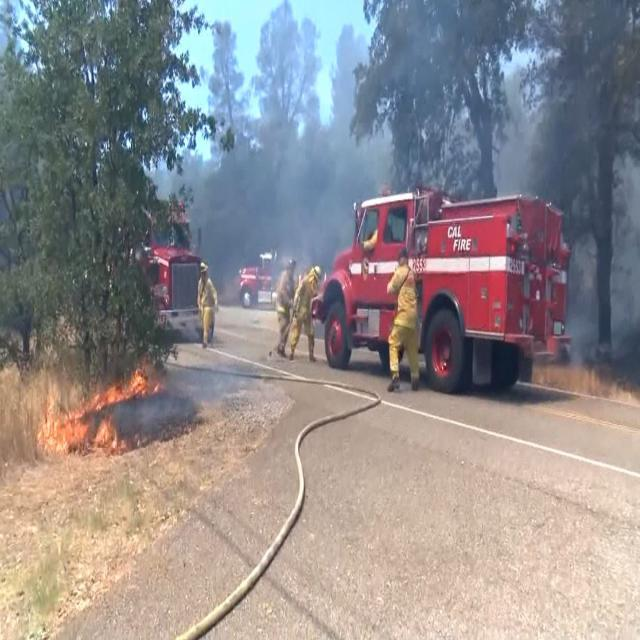Fire: (34, 360, 168, 462)
Smoke: (88, 349, 262, 442)
